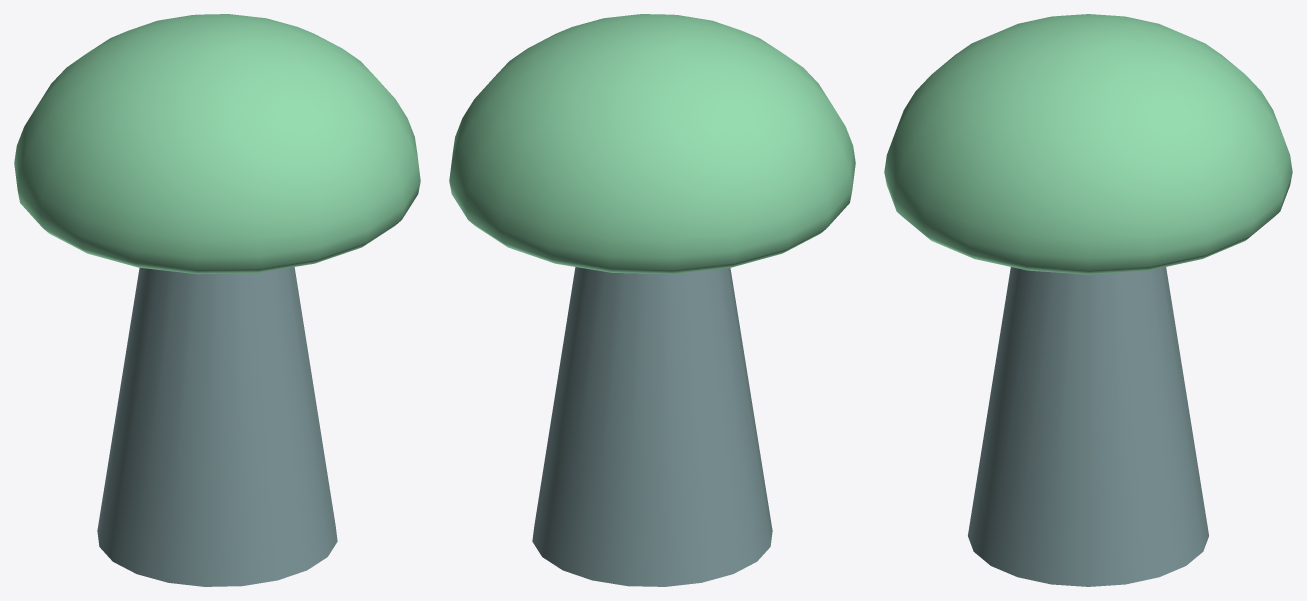
File: mushroom.fbx
3 views of the same model, side by side, from view 1: azimuth 30°, elevation 25°; view 2: azimuth 150°, elevation 25°; view 3: azimuth 270°, elevation 25° (orthographic).
Visible parts, largest first — view 1: pSphere6; view 2: pSphere6; view 3: pSphere6.
Boxes of the visible parts, box(x1,y1,x2,y2) form: pSphere6: box(14, 14, 420, 586); pSphere6: box(449, 14, 855, 586); pSphere6: box(884, 14, 1292, 586).
Size of the model in its own units: 2 by 2.69 by 2.
